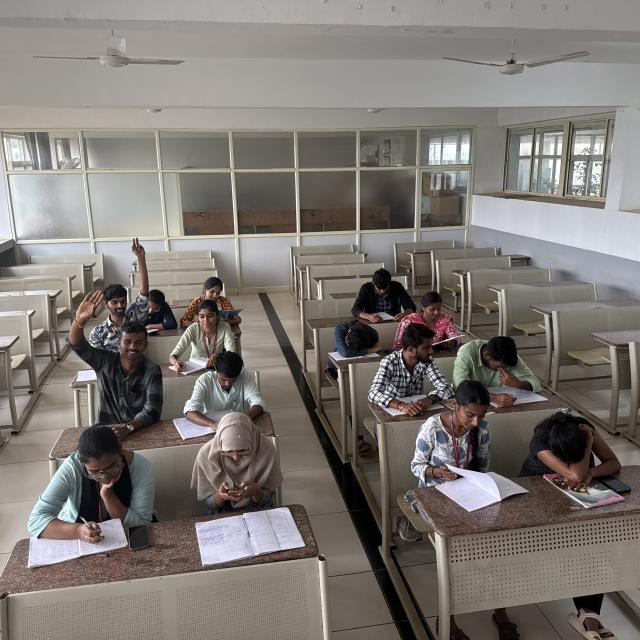Hand Rising: (59, 282, 161, 416), (100, 237, 150, 345)
Reading: (419, 377, 510, 493), (188, 347, 272, 424), (457, 333, 542, 400), (406, 290, 466, 350), (183, 275, 249, 328), (353, 265, 414, 322)
Sleeping: (526, 409, 622, 480), (332, 314, 388, 354)
Using Phone: (188, 413, 280, 513)
Writing: (28, 421, 151, 554), (167, 301, 230, 373)
